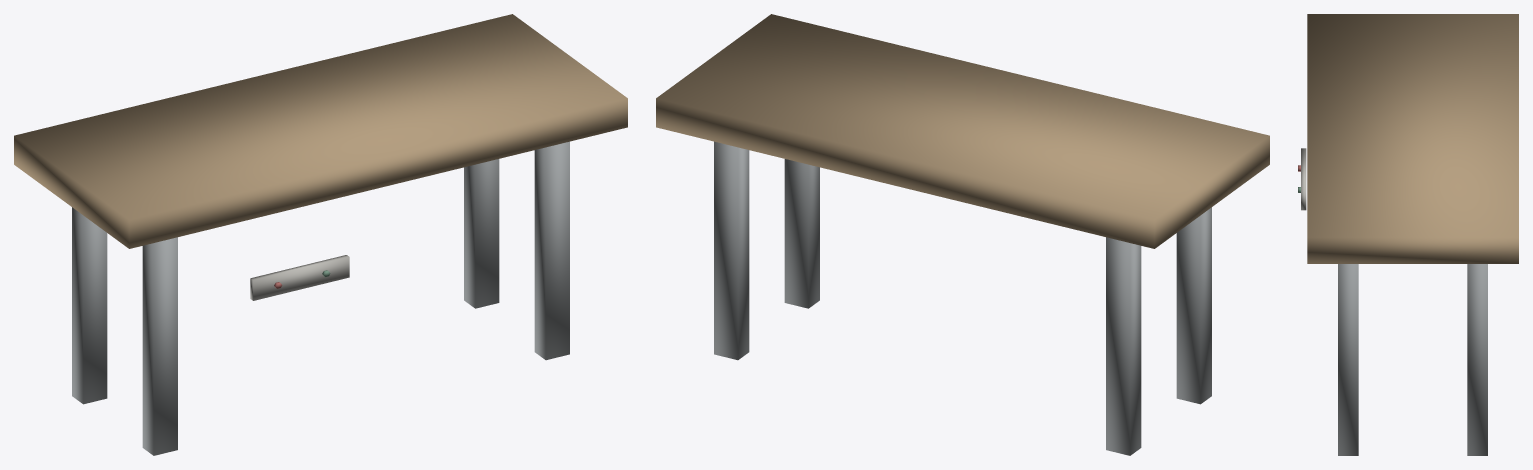
Rendered from workbench__wide.glb.
The picture shows the model from 3 angles, left to right: view 1: azimuth 30°, elevation 25°; view 2: azimuth 150°, elevation 25°; view 3: azimuth 270°, elevation 25°; orthographic projection. The views are drawn at different scales.
Visible parts, largest first — view 1: world; view 2: world; view 3: world.
Boxes of the visible parts, x1,y1,x2,y2 form: world: [14, 14, 627, 455]; world: [656, 14, 1269, 455]; world: [1298, 14, 1518, 455].
Size of the model in its own units: 1.8 by 0.89 by 0.751.
